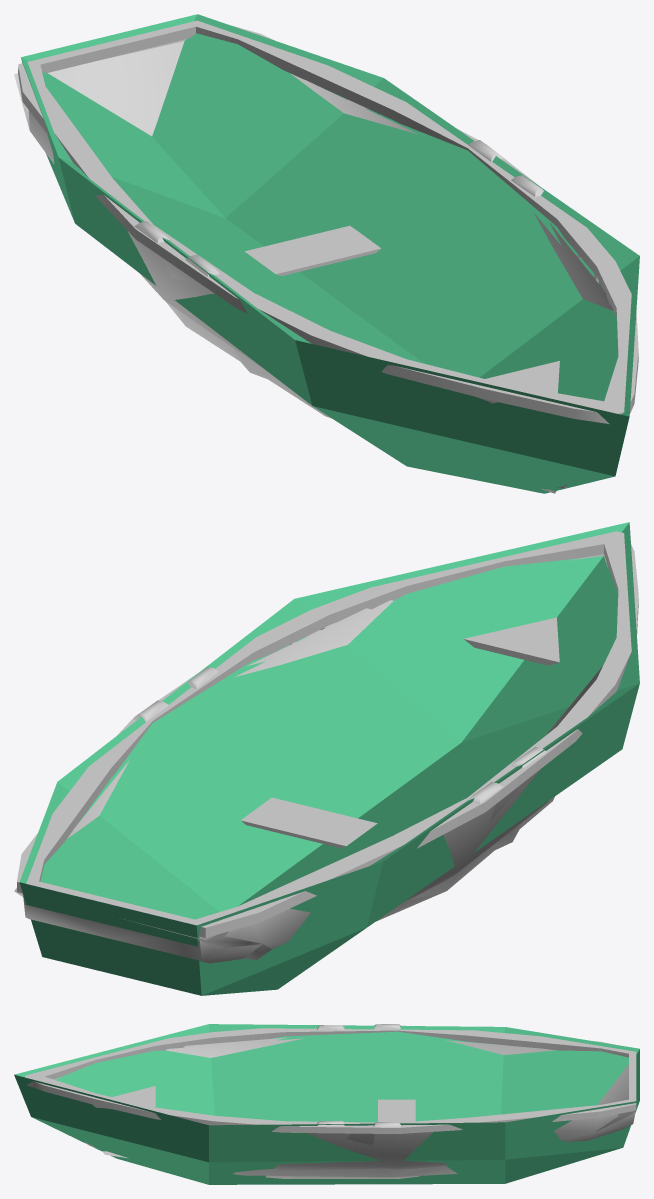
Rendered from littleboat_01_b.dae.
The picture shows the model from 3 angles, top to bottom: view 1: azimuth 30°, elevation 25°; view 2: azimuth 150°, elevation 25°; view 3: azimuth 270°, elevation 25°; orthographic projection. The views are drawn at different scales.
Visible parts, largest first — view 1: Colmesh-1, ind_bld_a400, ind_bld_a40; view 2: Colmesh-1, ind_bld_a400, ind_bld_a40, ind_bld_a120; view 3: Colmesh-1, ind_bld_a400, ind_bld_a40, ind_bld_a120.
Boxes of the visible parts, bbox=[...] form: Colmesh-1: bbox=[21, 14, 639, 493]; ind_bld_a400: bbox=[18, 20, 638, 488]; ind_bld_a40: bbox=[14, 41, 613, 493]; Colmesh-1: bbox=[19, 522, 639, 995]; ind_bld_a400: bbox=[17, 531, 638, 963]; ind_bld_a40: bbox=[14, 554, 607, 959]; ind_bld_a120: bbox=[31, 622, 546, 962]; Colmesh-1: bbox=[14, 1024, 639, 1184]; ind_bld_a400: bbox=[25, 1024, 636, 1168]; ind_bld_a40: bbox=[54, 1037, 635, 1177]; ind_bld_a120: bbox=[265, 1112, 634, 1178].
Size of the model in its own units: 1.68 by 4.33 by 0.71.
